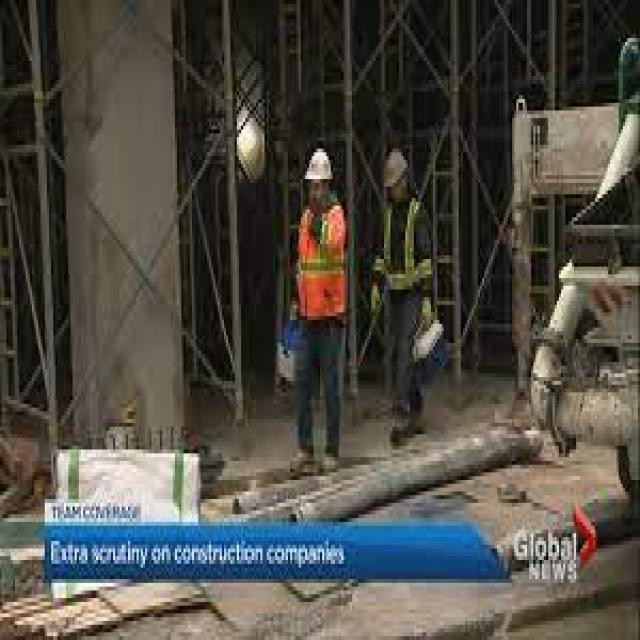Reflective-Jacket: (292, 198, 352, 339), (376, 198, 438, 309)
Safety-Helmet: (299, 137, 339, 194), (378, 141, 416, 198)
